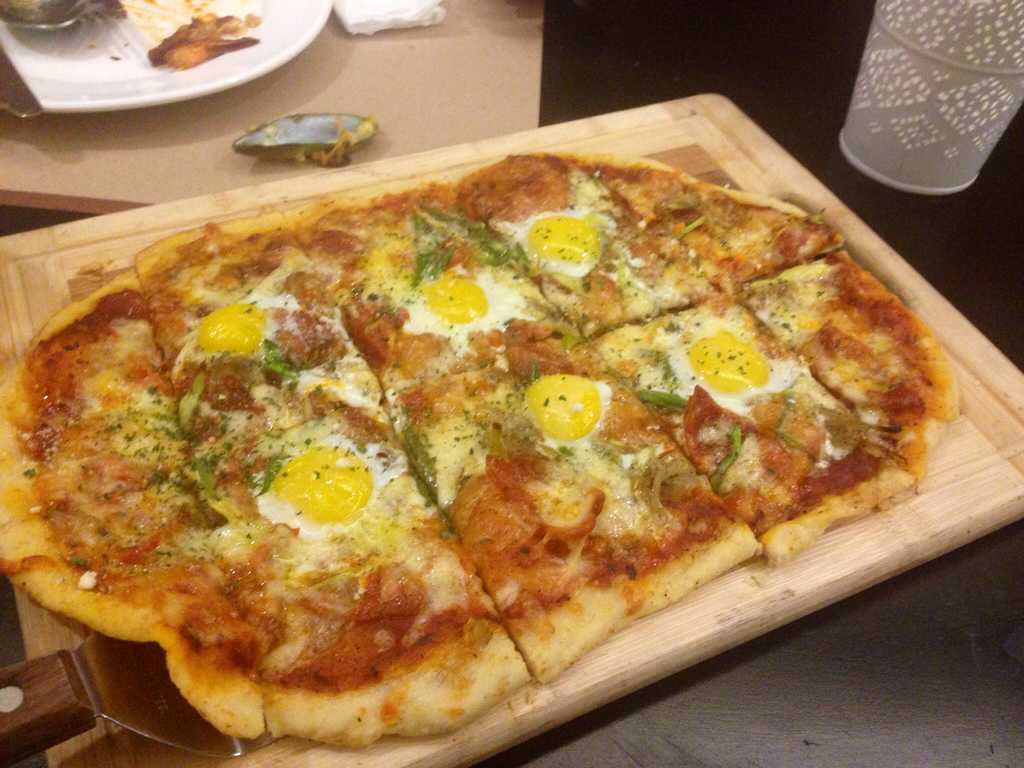Pizza: (0, 145, 961, 745)
